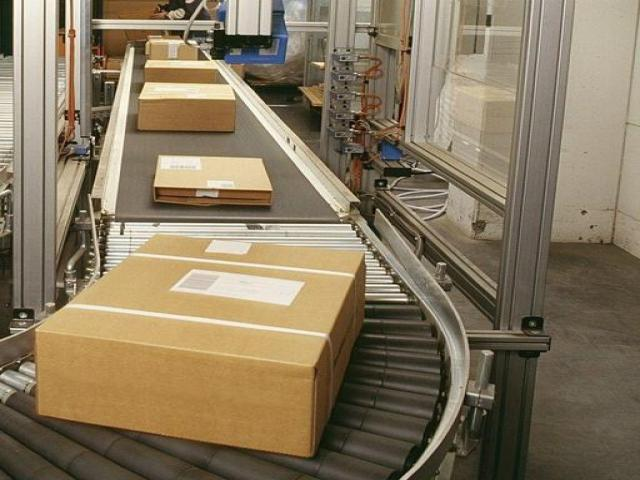conveyor: (0, 25, 476, 480)
